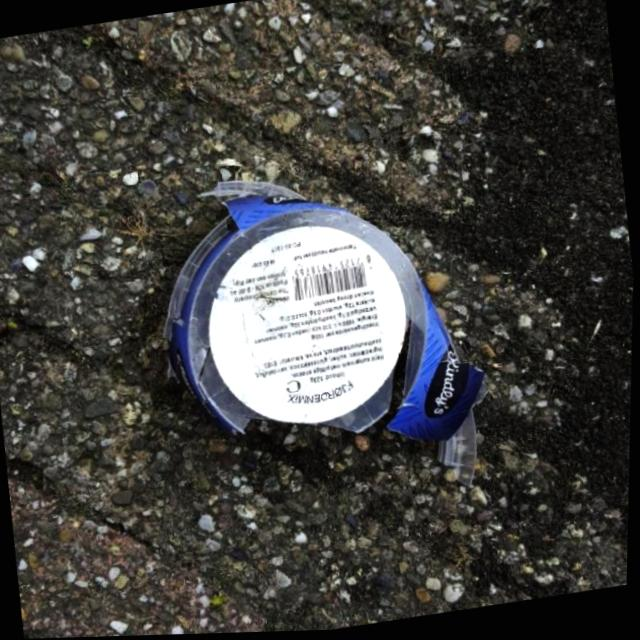Paper: (135, 133, 514, 540)
